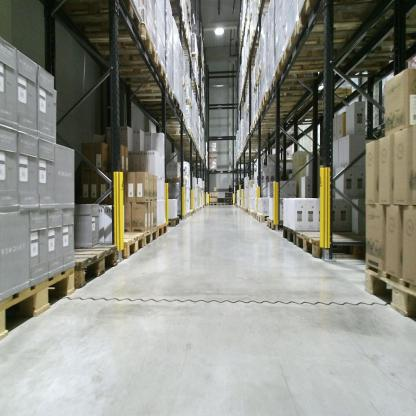pallet: (1, 263, 77, 340), (283, 21, 375, 63), (167, 0, 194, 141), (59, 1, 143, 41), (363, 263, 416, 320), (297, 0, 378, 35), (90, 24, 157, 65), (294, 226, 367, 262), (67, 243, 121, 290), (274, 52, 344, 86), (107, 52, 167, 86), (267, 74, 340, 101), (260, 86, 314, 112), (129, 78, 175, 101), (119, 224, 157, 251), (256, 103, 312, 120), (134, 94, 180, 111), (140, 104, 184, 120), (120, 232, 145, 258), (265, 215, 293, 232), (254, 114, 282, 129), (281, 224, 298, 248), (153, 115, 188, 126), (257, 1, 276, 19), (249, 123, 282, 132), (165, 214, 180, 232), (250, 27, 263, 46), (157, 221, 168, 240), (169, 178, 189, 187), (181, 79, 189, 93), (184, 98, 194, 109), (176, 211, 187, 221), (253, 76, 260, 90), (257, 213, 266, 223), (257, 63, 262, 81), (253, 210, 258, 221), (245, 107, 251, 116), (217, 201, 225, 206), (209, 167, 217, 172), (185, 210, 190, 218), (250, 209, 254, 218), (209, 202, 218, 206), (225, 201, 233, 205), (247, 209, 251, 216), (189, 209, 193, 216)
